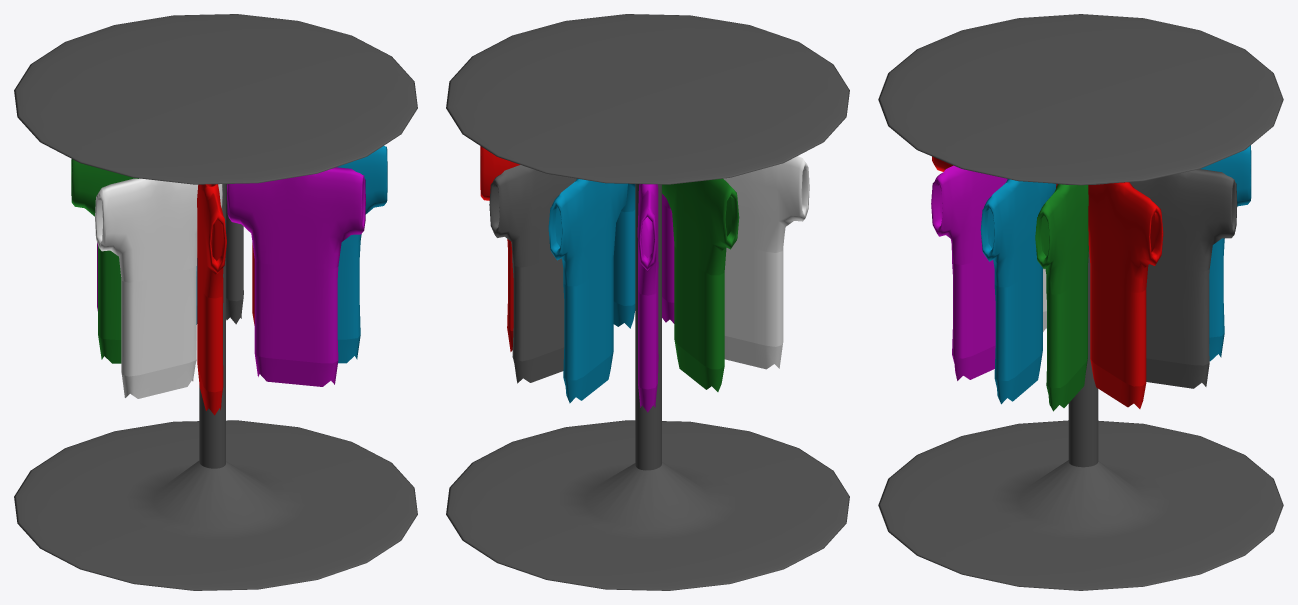
File: Shirt rack 2.fbx
The picture shows the model from 3 angles, left to right: view 1: azimuth 30°, elevation 25°; view 2: azimuth 150°, elevation 25°; view 3: azimuth 270°, elevation 25°; orthographic projection.
Visible parts, largest first — view 1: polySurface16; view 2: polySurface16; view 3: polySurface16.
Part boxes in pixels (x1=…): polySurface16: x1=14, y1=14, x2=417, y2=590; polySurface16: x1=446, y1=14, x2=849, y2=590; polySurface16: x1=878, y1=14, x2=1283, y2=590.
Size of the model in its own units: 2 by 2.26 by 2.
